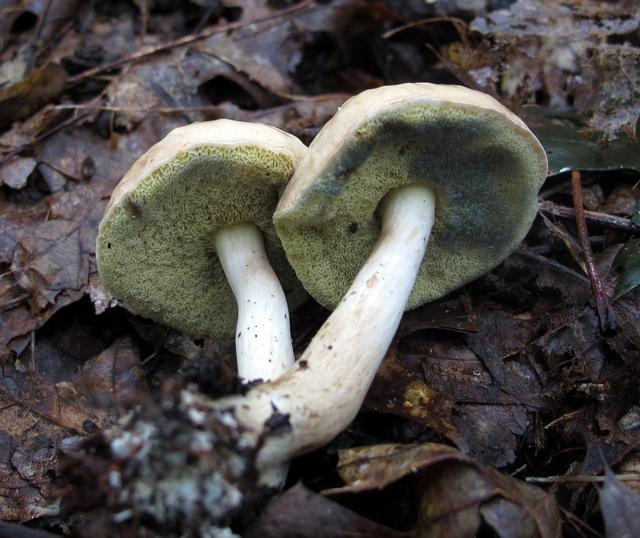Edible Mushroom: (196, 79, 549, 491), (94, 116, 311, 386)
